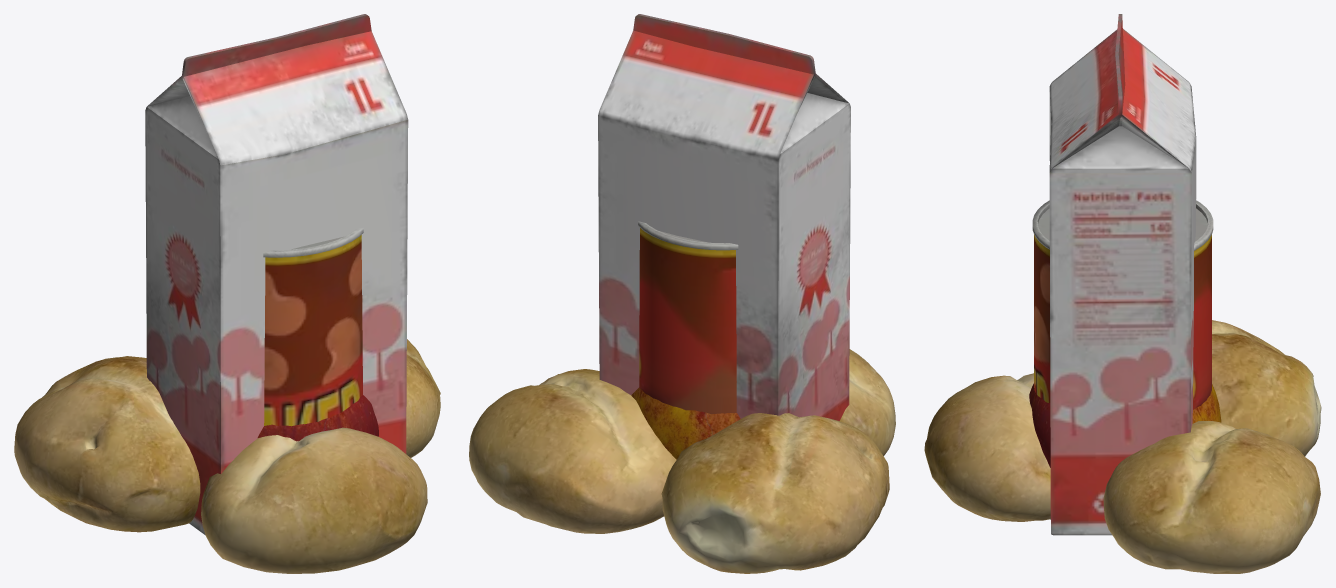
Rendered from items.glb.
3 renders of one model, left to right at view 1: azimuth 30°, elevation 25°; view 2: azimuth 150°, elevation 25°; view 3: azimuth 270°, elevation 25°, orthographic. The views are drawn at different scales.
Parts seen in each view (by area): view 1: milk, buns, beans, apple; view 2: milk, buns, beans, apple; view 3: milk, buns, beans, apple.
Boxes of the visible parts, <box> form: milk: <box>145,14,408,535</box>; buns: <box>14,339,440,573</box>; beans: <box>263,227,363,426</box>; apple: <box>257,395,378,441</box>; milk: <box>598,14,850,420</box>; buns: <box>469,349,895,573</box>; beans: <box>638,221,738,414</box>; apple: <box>631,387,740,459</box>; milk: <box>1049,14,1196,535</box>; buns: <box>924,320,1321,573</box>; beans: <box>1032,200,1213,519</box>; apple: <box>1029,383,1221,467</box>.
Size of the model in its own units: 0.211 by 0.2376 by 0.1935.
Materials: 4 (4 with a texture image).
